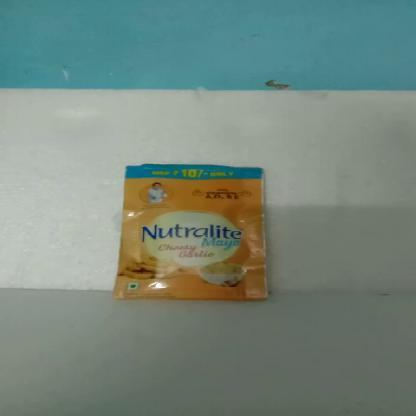Nutralite CHEESY GARLIC MAYO 30g: (125, 167, 266, 300)
